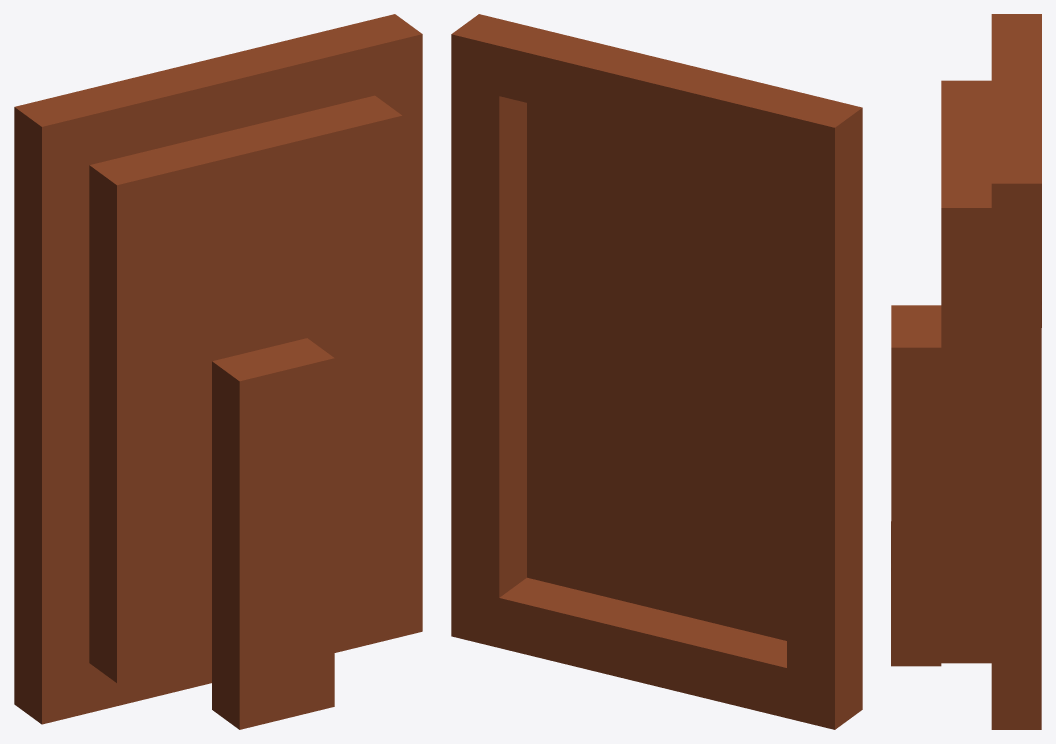
File: picture_frame_medium.dae
3 renders of one model, left to right at view 1: azimuth 30°, elevation 25°; view 2: azimuth 150°, elevation 25°; view 3: azimuth 270°, elevation 25°, orthographic. The views are drawn at different scales.
Visible parts, largest first — view 1: Untitled.001, Untitled; view 2: Untitled.001; view 3: Untitled.001, Untitled.
Part boxes in pixels (x1,y1,x2,y2): Untitled.001: (14, 14, 422, 724); Untitled: (212, 338, 334, 729); Untitled.001: (451, 14, 862, 729); Untitled.001: (941, 14, 1041, 729); Untitled: (891, 305, 941, 666).
Bounding box in the file's own units: 0.24 × 0.09 × 0.36.
Materials: 2 (2 with a texture image).
